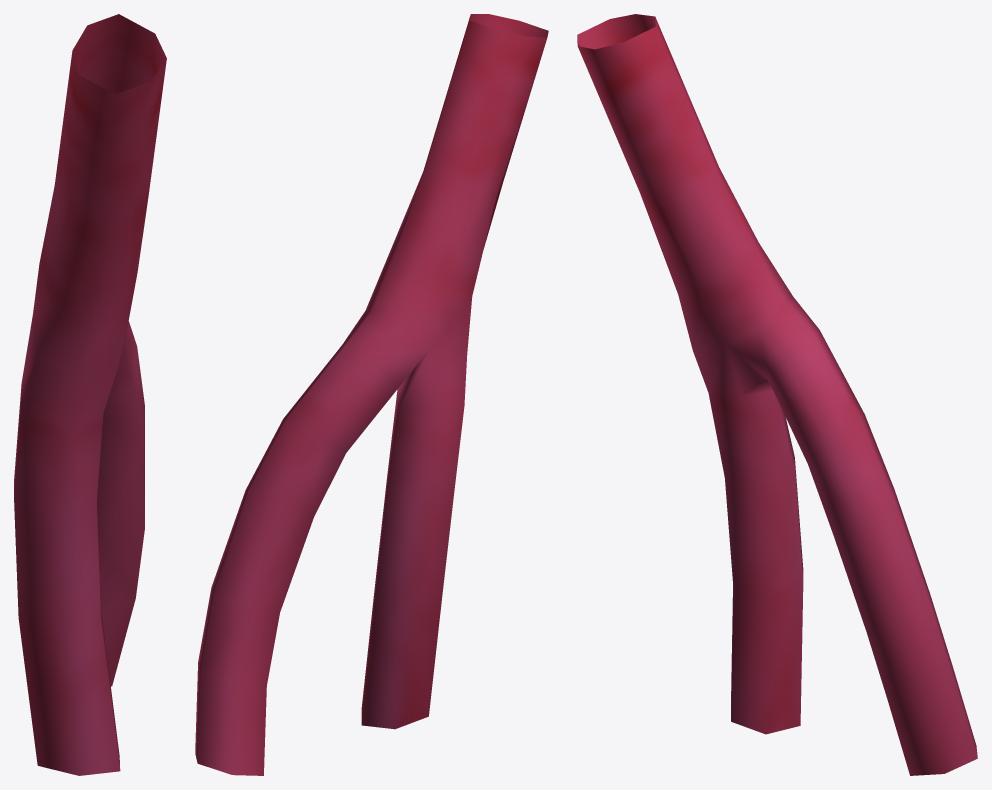
The model's file is VeinLargeB.fbx.
3 renders of one model, left to right at view 1: azimuth 30°, elevation 25°; view 2: azimuth 150°, elevation 25°; view 3: azimuth 270°, elevation 25°, orthographic. The views are drawn at different scales.
Visible parts, largest first — view 1: VeinLargeB; view 2: VeinLargeB; view 3: VeinLargeB.
Boxes of the visible parts, x1,y1,x2,y2 form: VeinLargeB: [14, 14, 166, 775]; VeinLargeB: [195, 14, 548, 775]; VeinLargeB: [577, 14, 977, 775].
Bounding box in the file's own units: 237 × 773 × 404.
